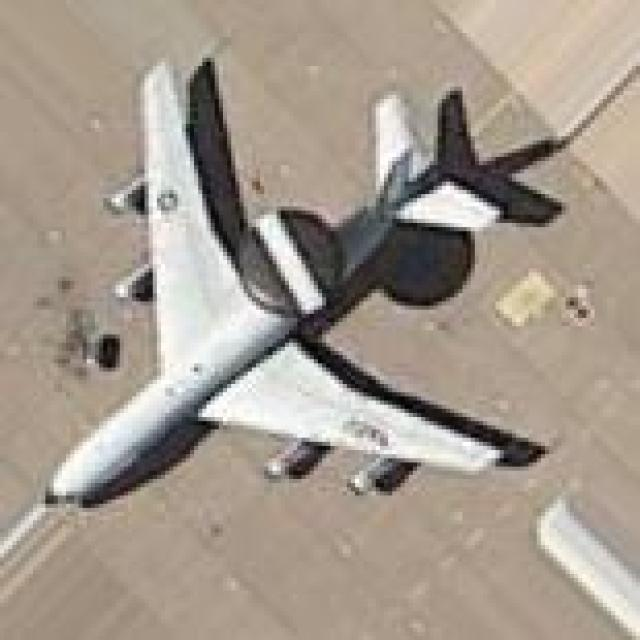E-3_TopDown: (41, 50, 566, 512)
